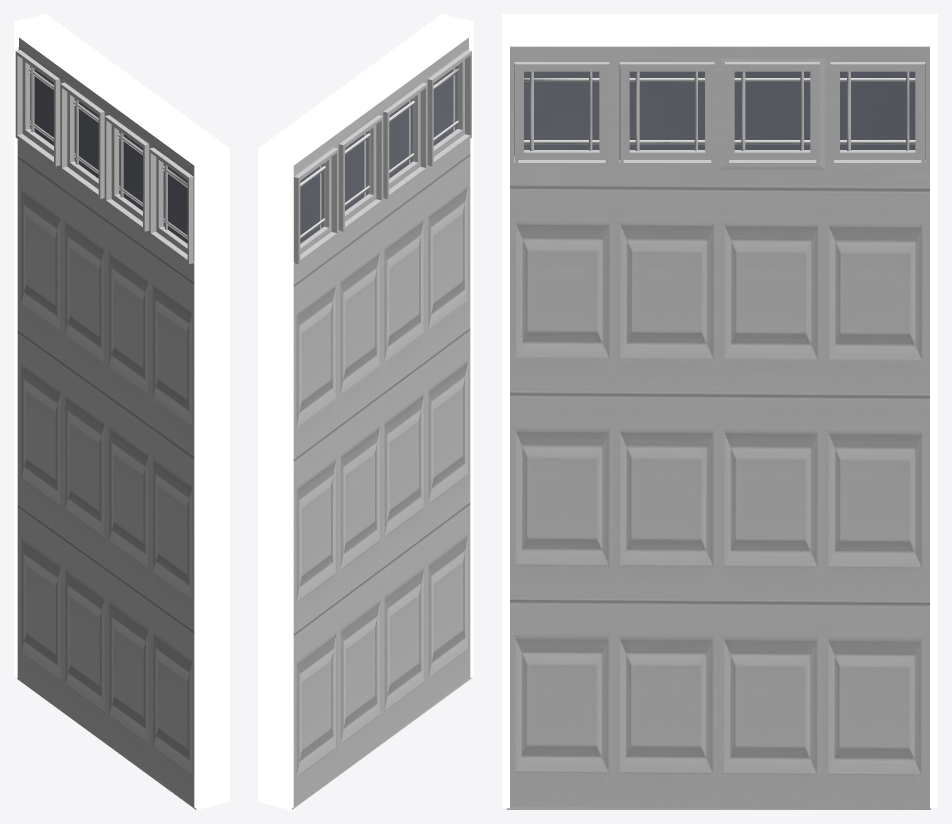
Rendered from overhead_door_door_prairie.7dbd595e.gltf.
The picture shows the model from 3 angles, left to right: view 1: azimuth 30°, elevation 25°; view 2: azimuth 150°, elevation 25°; view 3: azimuth 270°, elevation 25°; orthographic projection. The views are drawn at different scales.
Visible parts, largest first — view 1: door, trim, door_window, Glass; view 2: door, trim, door_window, Glass; view 3: door, door_window, trim, Glass.
Boxes of the visible parts, x1,y1,x2,y2 form: door: [17, 139, 196, 809]; trim: [14, 14, 229, 809]; door_window: [15, 37, 194, 264]; Glass: [30, 66, 187, 243]; door: [292, 139, 471, 809]; trim: [258, 14, 473, 809]; door_window: [293, 37, 471, 264]; Glass: [300, 66, 457, 243]; door: [506, 156, 930, 809]; door_window: [510, 46, 929, 185]; trim: [502, 14, 937, 808]; Glass: [524, 64, 925, 159].
Size of the model in its own units: 0.3779 by 6.01 by 3.05.
Materials: 4 (3 with a texture image).
